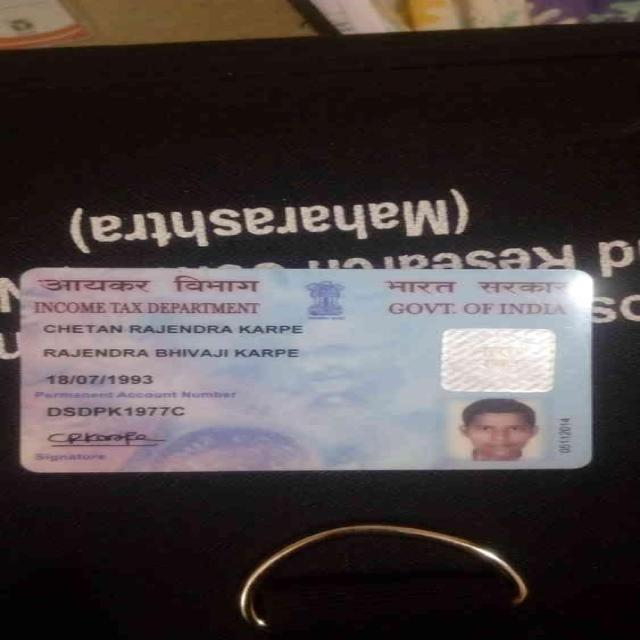pan_card: (18, 269, 591, 470)
